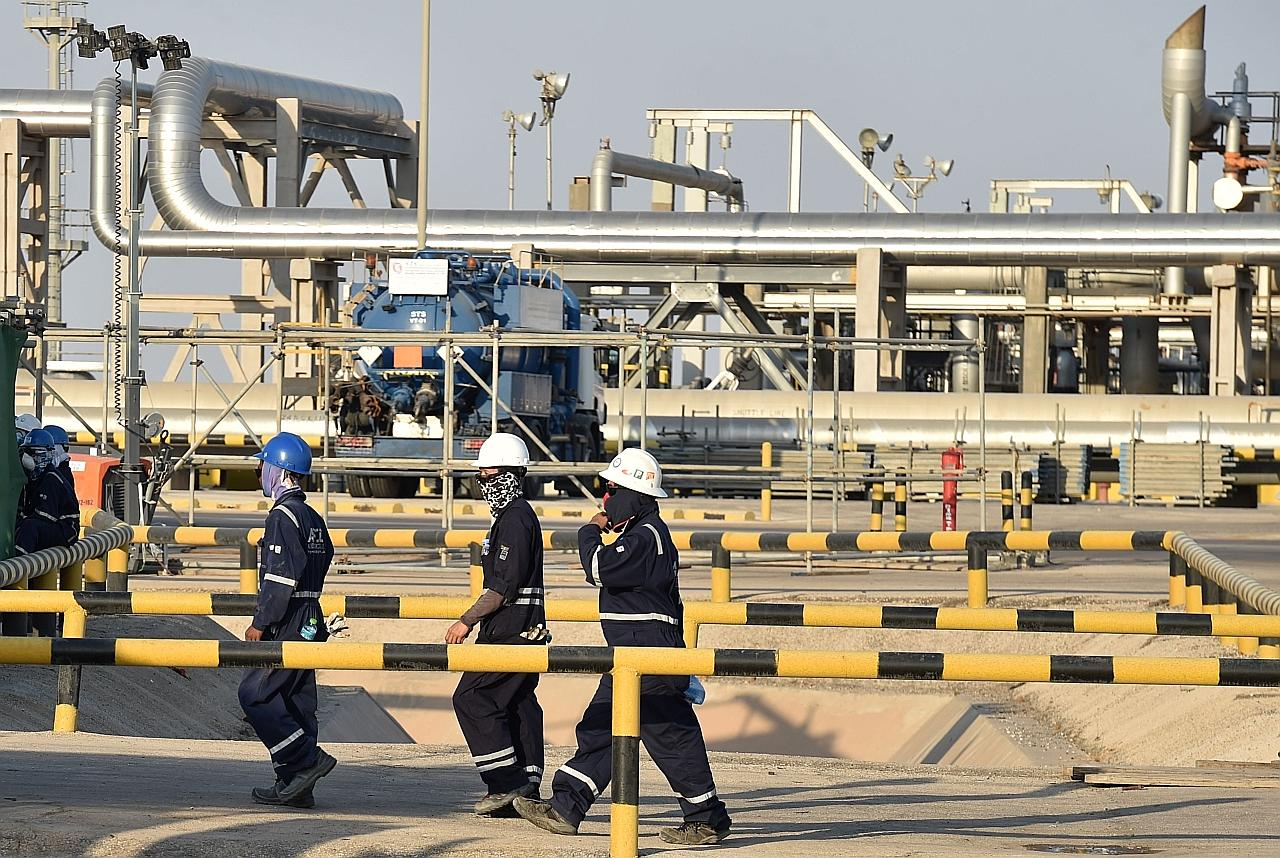Safety Helmet: (594, 441, 671, 526), (249, 431, 316, 512), (473, 426, 531, 514)
